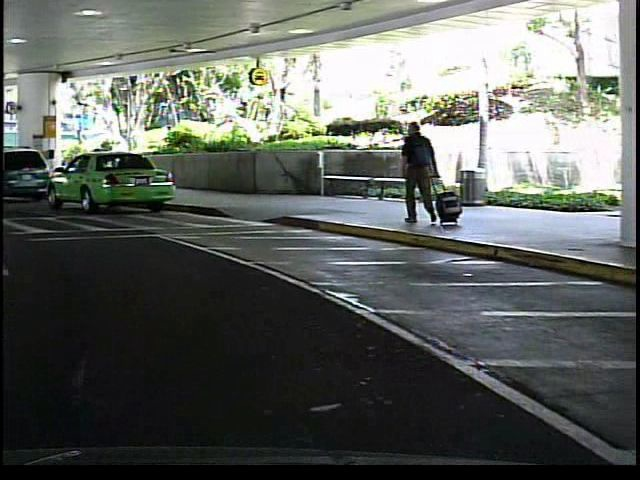person: (391, 112, 439, 234)
